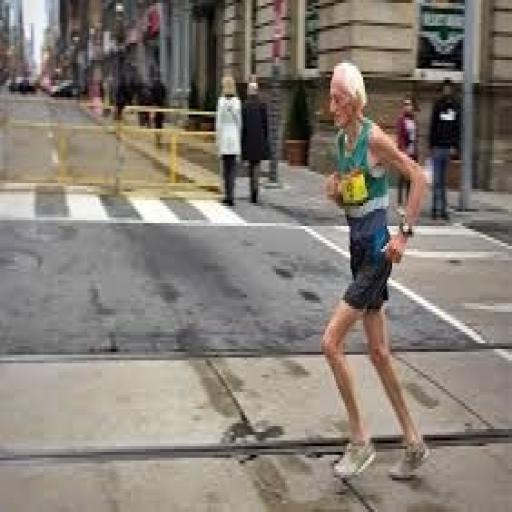running: (320, 58, 432, 484)
